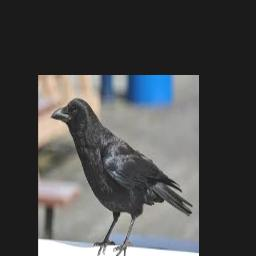Crow: (50, 97, 192, 256)
